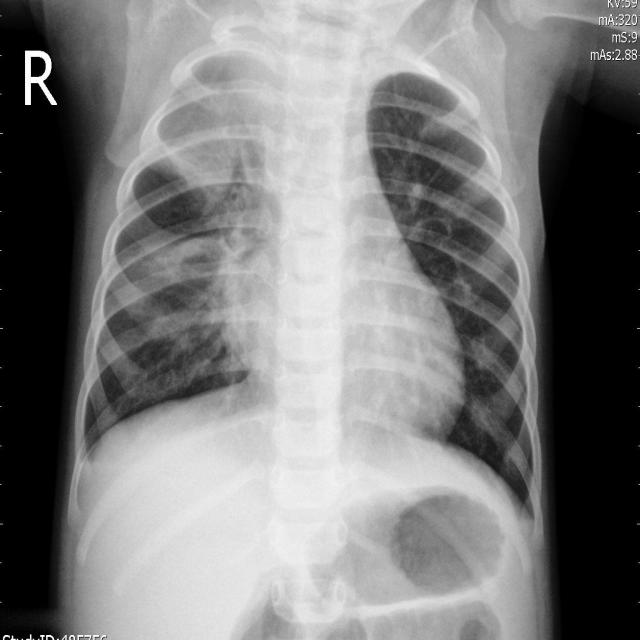high-pneumonia: (158, 36, 268, 207)
low-pneumonia: (131, 232, 227, 336)
